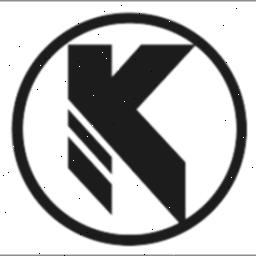k: (64, 36, 194, 226)
